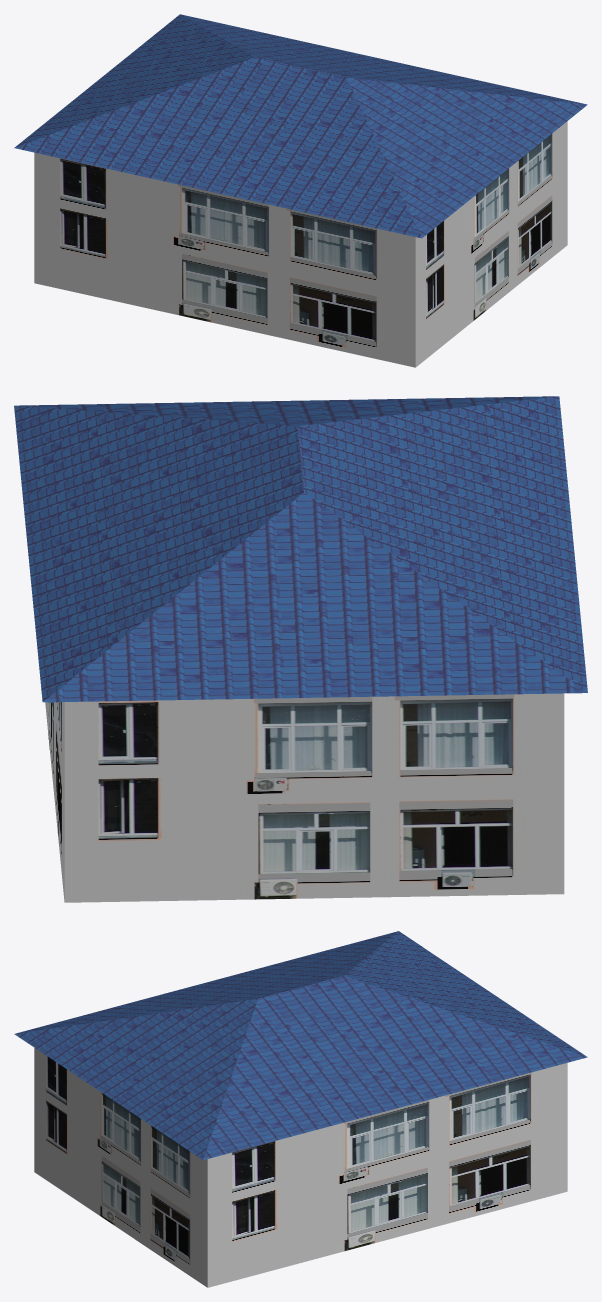
3 views of the same model, one above another, from view 1: azimuth 30°, elevation 25°; view 2: azimuth 150°, elevation 25°; view 3: azimuth 270°, elevation 25° (orthographic). The views are drawn at different scales.
Parts seen in each view (by area): view 1: CityEngineMaterial_10_m, CityEngineMaterial_9_m; view 2: CityEngineMaterial_10_m, CityEngineMaterial_9_m; view 3: CityEngineMaterial_9_m, CityEngineMaterial_10_m.
Part boxes in pixels (x1,y1,x2,y2): CityEngineMaterial_10_m: (14,14,587,238); CityEngineMaterial_9_m: (34,121,567,367); CityEngineMaterial_10_m: (14,396,587,702); CityEngineMaterial_9_m: (45,693,564,902); CityEngineMaterial_9_m: (34,1048,567,1287); CityEngineMaterial_10_m: (14,931,587,1160).
Size of the model in its own units: 34.4 by 13.62 by 36.41.
